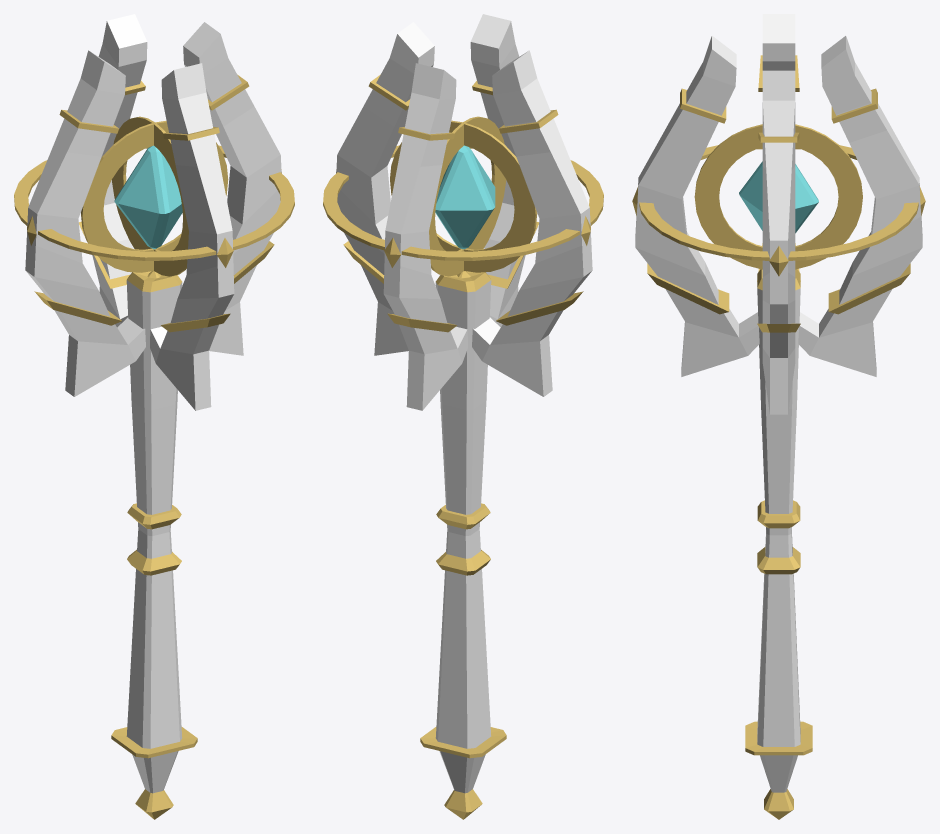
Rendered from stamp_mk4.fbx.
3 renders of one model, left to right at view 1: azimuth 30°, elevation 25°; view 2: azimuth 150°, elevation 25°; view 3: azimuth 270°, elevation 25°, orthographic.
Visible parts, largest first — view 1: Plane.001, Cube; view 2: Plane.001, Cube; view 3: Plane.001, Cube.
Boxes of the visible parts, x1,y1,x2,y2 form: Plane.001: [14, 14, 294, 819]; Cube: [114, 145, 182, 249]; Plane.001: [323, 14, 603, 819]; Cube: [435, 145, 495, 249]; Plane.001: [632, 14, 925, 819]; Cube: [739, 161, 818, 233].
Size of the model in its own units: 927 by 2709 by 927.
